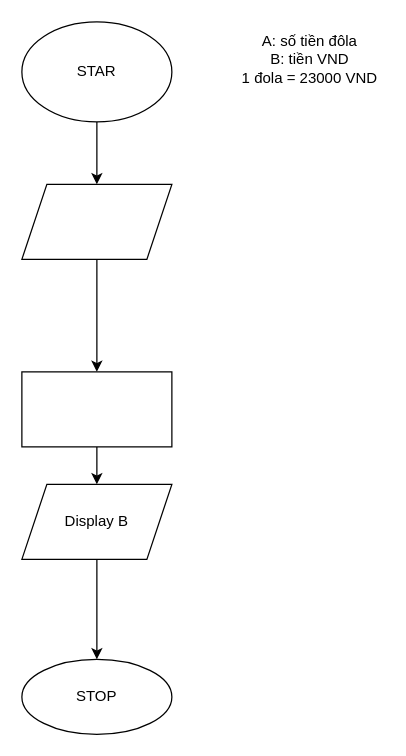
Image size: 406x756. Some labels were removed from this diagram. The shapes that lost their labels are listed below. From the top down, each one's box as (x1, y1, x2, y2) in pixels, then its label:
(21, 183, 172, 259): INPUT A
(21, 371, 172, 447): B= A.23000
